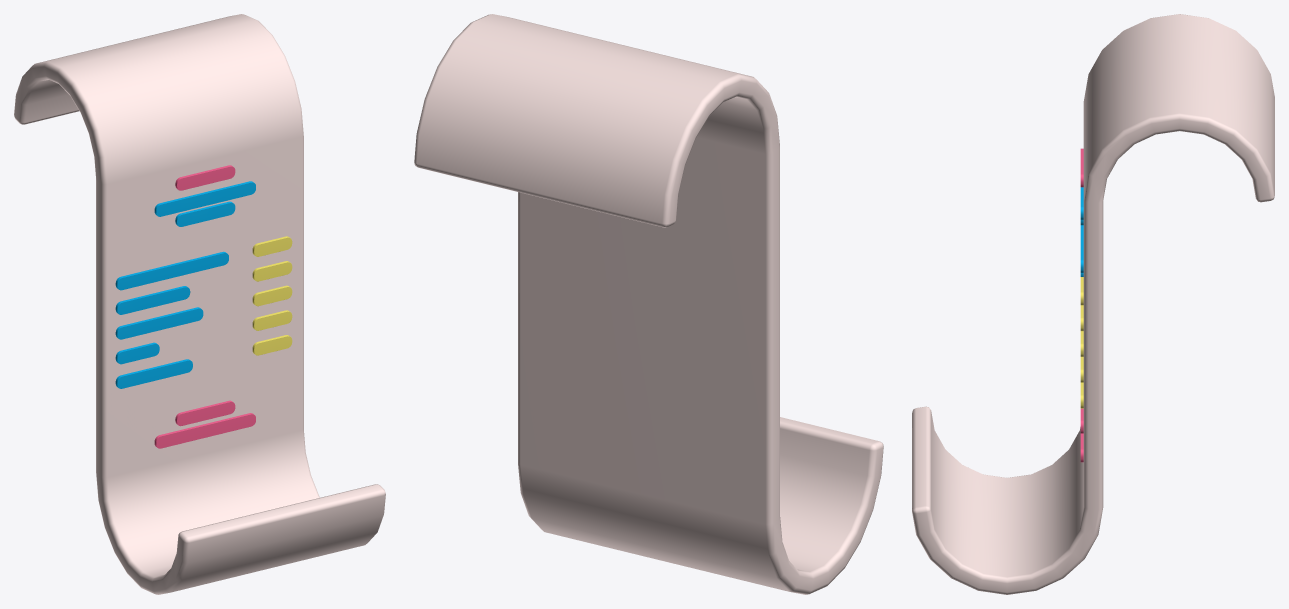
The model's file is Public_10_Payment_Check_1.glb.
3 views of the same model, side by side, from view 1: azimuth 30°, elevation 25°; view 2: azimuth 150°, elevation 25°; view 3: azimuth 270°, elevation 25° (orthographic). The views are drawn at different scales.
Visible parts, largest first — view 1: Public_10_Payment_Check_1; view 2: Public_10_Payment_Check_1; view 3: Public_10_Payment_Check_1.
Part boxes in pixels (x1,y1,x2,y2): Public_10_Payment_Check_1: [14, 14, 385, 594]; Public_10_Payment_Check_1: [414, 14, 883, 594]; Public_10_Payment_Check_1: [912, 14, 1274, 594].
Bounding box in the file's own units: 1.7 × 3.71 × 2.53.
1 material, 1 textured.
